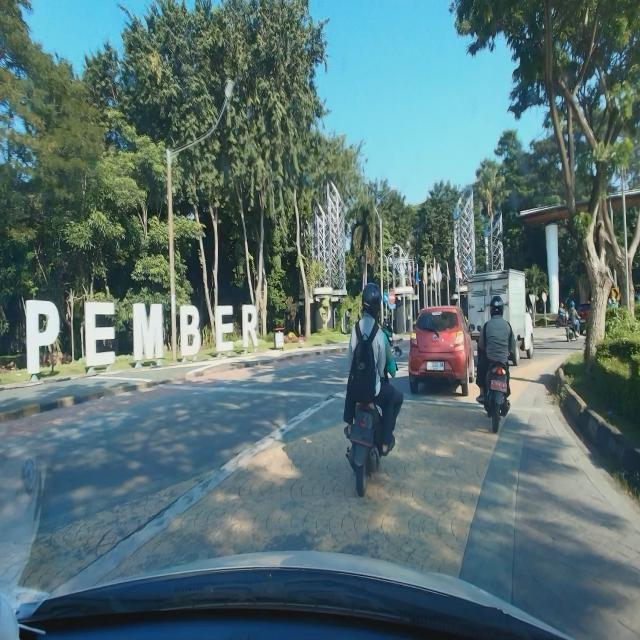car: (407, 303, 476, 397)
license-plate: (426, 361, 444, 372)
truck: (464, 265, 537, 367)
